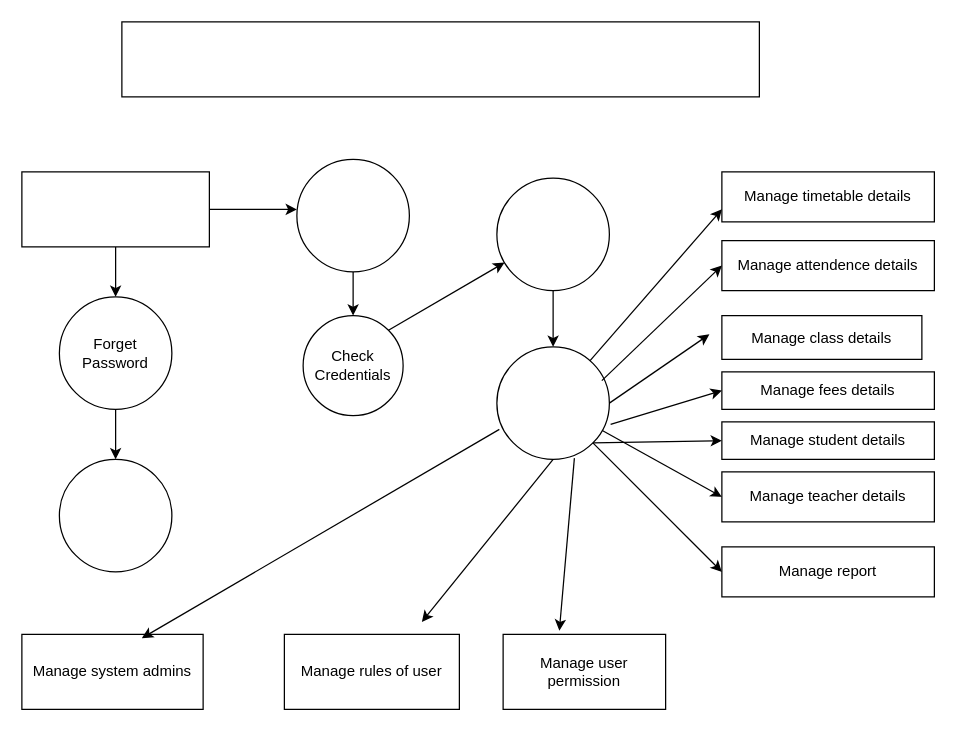
Image size: 956x731. Some labels were removed from this diagram. The shapes that lost their labels are listed below. From the top down, each one's centre as x and y in pixels, then its label:
point (440, 59): Student Information System
point (115, 209): Admin
point (352, 215): Login to System
point (552, 234): Check Roles of Access
point (552, 402): Manage Modules
point (115, 515): Send Email to User
